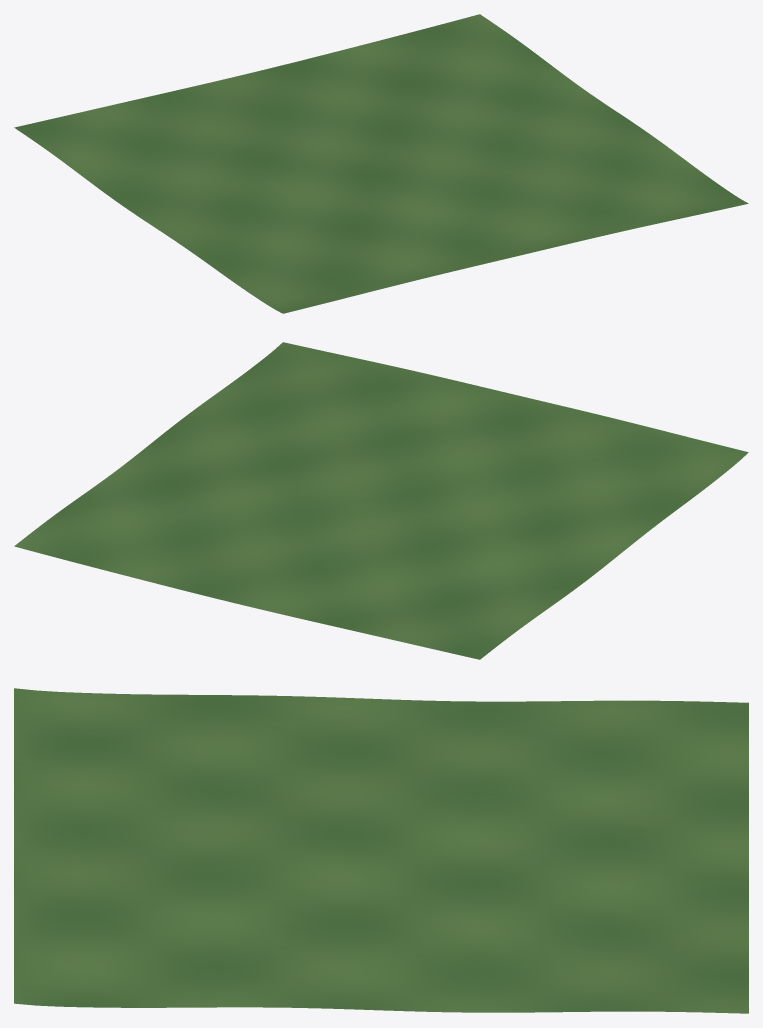
The model's file is chunk_2_11.glb.
3 views of the same model, one above another, from view 1: azimuth 30°, elevation 25°; view 2: azimuth 150°, elevation 25°; view 3: azimuth 270°, elevation 25° (orthographic). The views are drawn at different scales.
Bounding box in the file's own units: 512 × 15.54 × 512.
